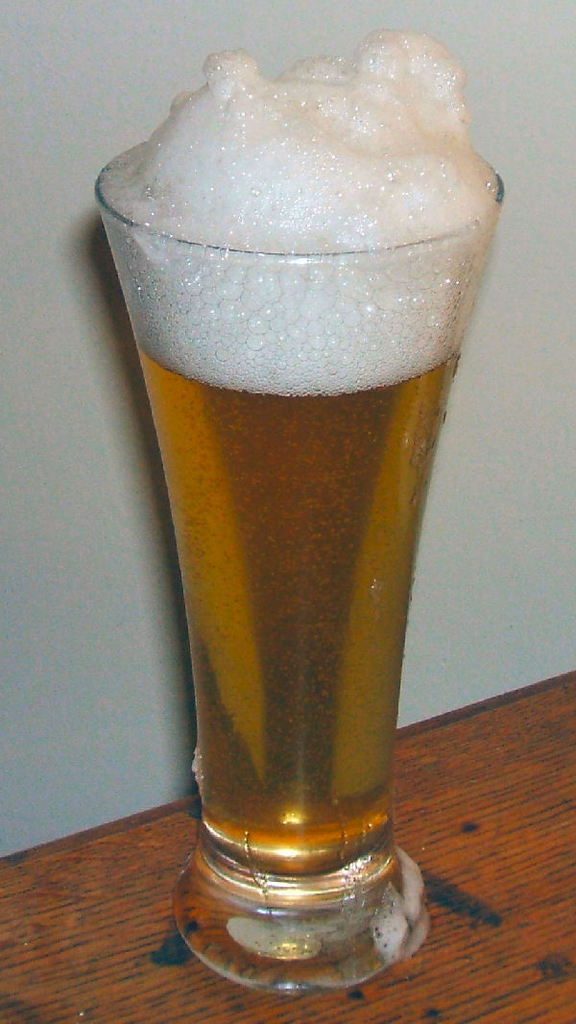Beer: (93, 28, 505, 995)
